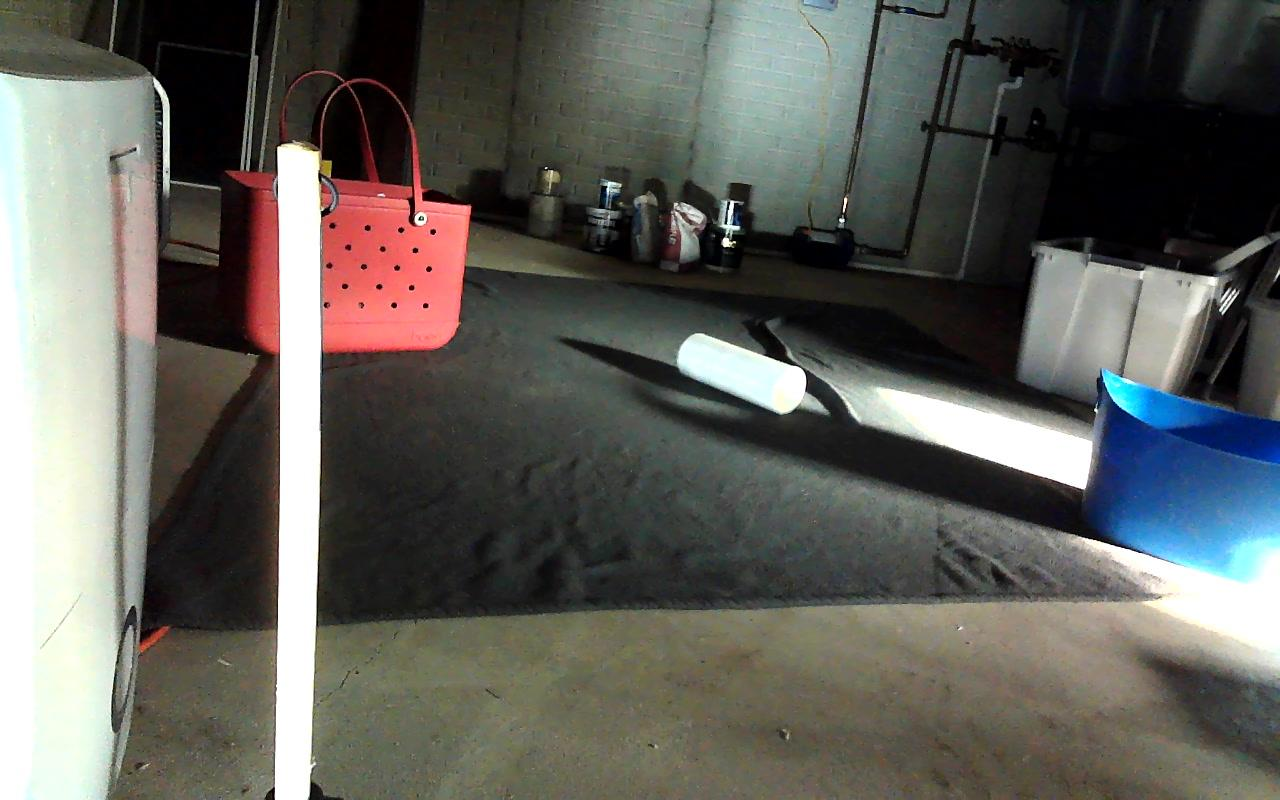coral: (677, 332, 806, 413)
